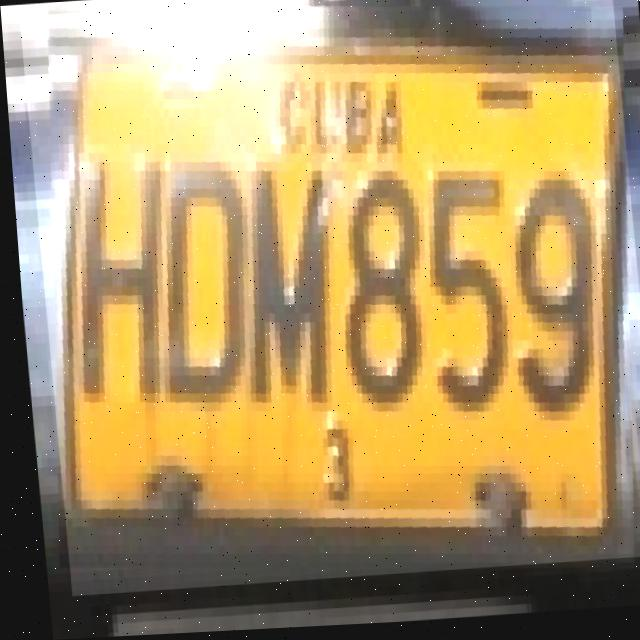LicensePlate: (18, 0, 640, 597)
